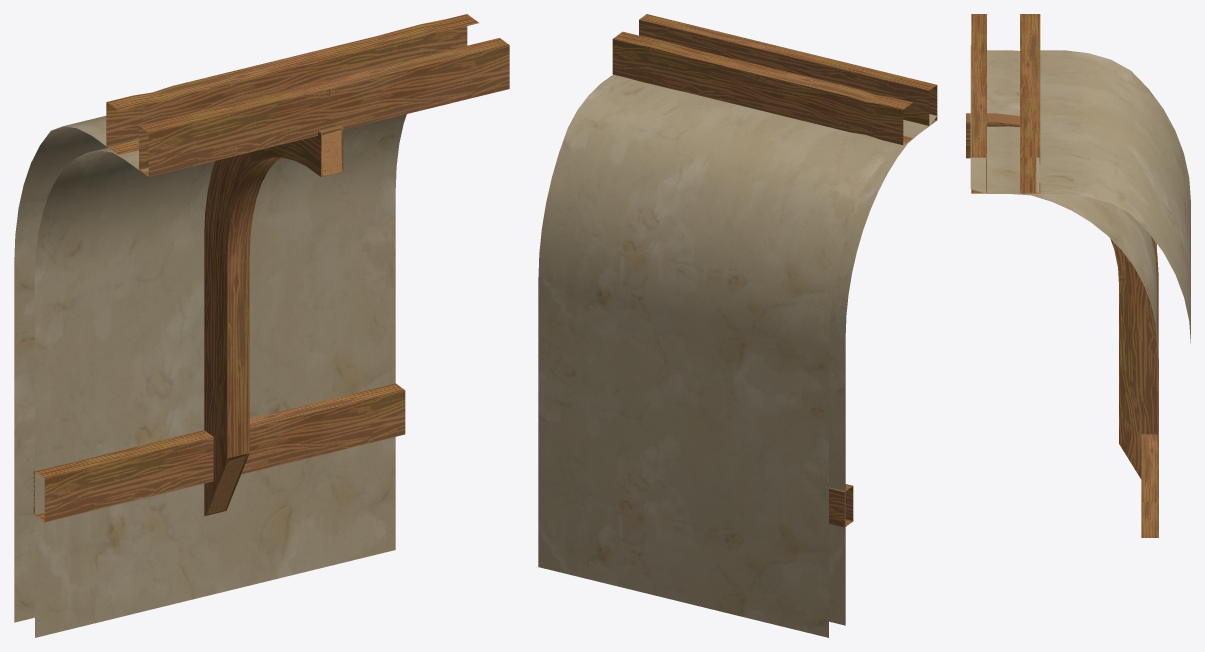
File: Overhang_Plaster_Short.gltf
3 views of the same model, side by side, from view 1: azimuth 30°, elevation 25°; view 2: azimuth 150°, elevation 25°; view 3: azimuth 270°, elevation 25° (orthographic). The views are drawn at different scales.
Visible parts, largest first — view 1: Overhang_Plaster_Short; view 2: Overhang_Plaster_Short; view 3: Overhang_Plaster_Short.
Boxes of the visible parts, bbox=[...] form: Overhang_Plaster_Short: bbox=[14, 14, 509, 637]; Overhang_Plaster_Short: bbox=[538, 14, 937, 637]; Overhang_Plaster_Short: bbox=[966, 14, 1190, 537].
Bounding box in the file's own units: 2 × 3.12 × 1.32.
Materials: 2 (2 with a texture image).
